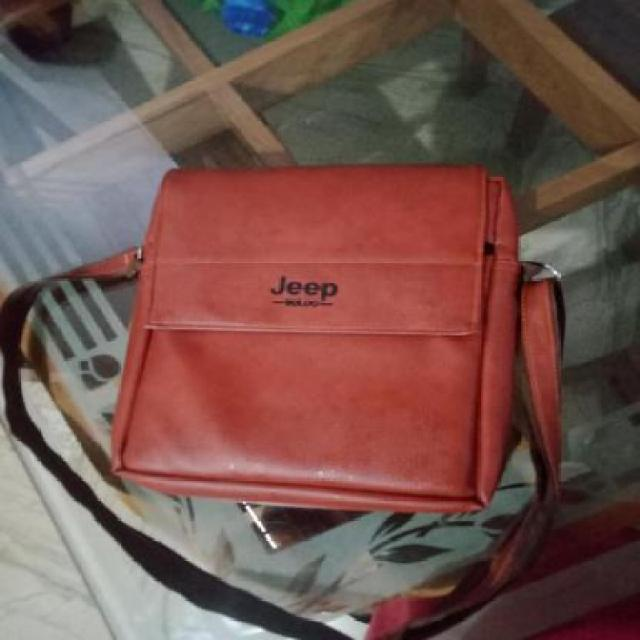backpack: (100, 160, 571, 520)
